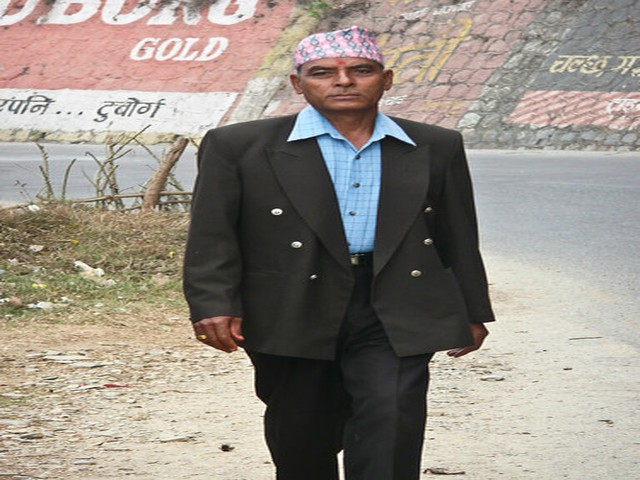Person: (177, 24, 518, 479)
